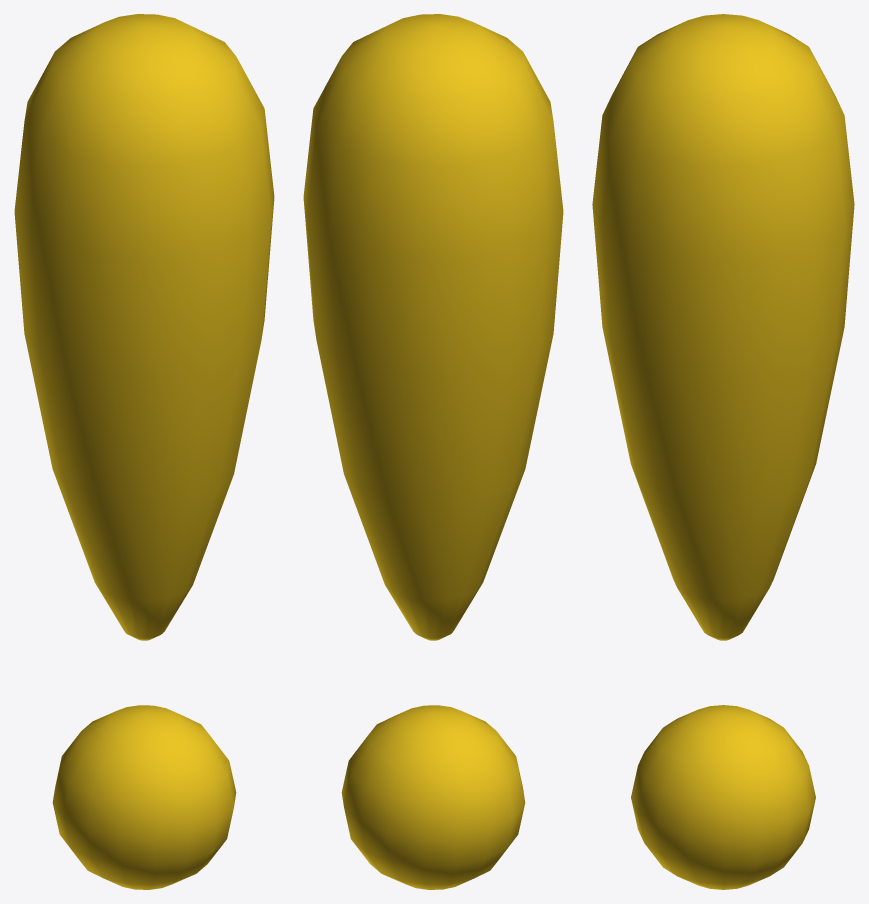
3 renders of one model, left to right at view 1: azimuth 30°, elevation 25°; view 2: azimuth 150°, elevation 25°; view 3: azimuth 270°, elevation 25°, orthographic.
Parts seen in each view (by area): view 1: Sphere.002; view 2: Sphere.002; view 3: Sphere.002.
Boxes of the visible parts, x1,y1,x2,y2 form: Sphere.002: [14, 14, 274, 889]; Sphere.002: [303, 14, 563, 889]; Sphere.002: [592, 14, 854, 889].
Bounding box in the file's own units: 0.0664 × 0.2391 × 0.0664.
